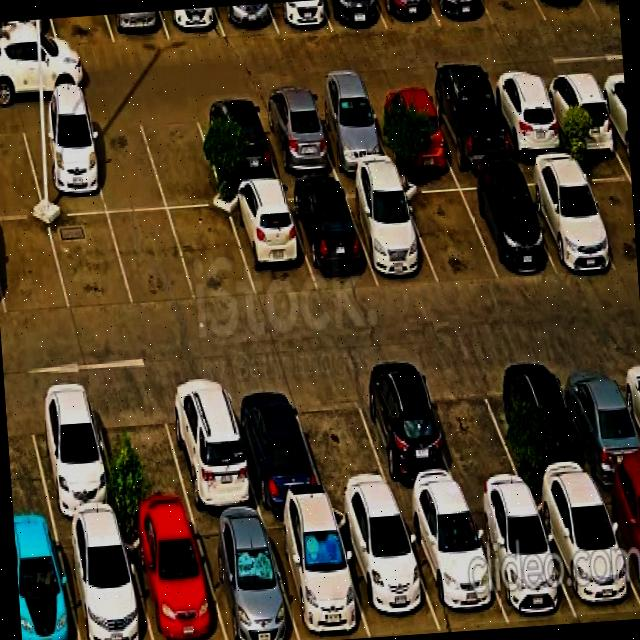empty: (421, 360, 526, 496), (289, 373, 395, 502), (92, 388, 193, 520), (399, 176, 497, 283), (137, 103, 224, 209), (82, 110, 166, 212), (108, 210, 196, 307), (48, 213, 133, 312), (169, 207, 256, 301), (575, 158, 637, 272), (0, 218, 69, 316), (4, 392, 52, 526), (0, 116, 44, 217), (51, 14, 114, 45), (482, 0, 546, 27)
occupied: (531, 484, 640, 623), (352, 366, 463, 502), (465, 493, 576, 624), (399, 498, 508, 630), (262, 508, 370, 640), (332, 505, 440, 636), (159, 376, 260, 515), (191, 515, 299, 640), (224, 378, 325, 509), (498, 355, 596, 490), (25, 388, 122, 523), (122, 518, 226, 640), (56, 522, 152, 640), (554, 353, 640, 483), (517, 160, 618, 270), (456, 171, 555, 277), (225, 186, 316, 298), (284, 181, 377, 290), (341, 179, 438, 283), (19, 113, 107, 215), (424, 81, 513, 168), (194, 99, 280, 187), (14, 526, 78, 640), (254, 95, 338, 180), (308, 92, 393, 174), (486, 75, 568, 158), (367, 87, 453, 166), (540, 71, 621, 151), (596, 479, 640, 604), (160, 7, 225, 40), (267, 0, 332, 33), (106, 10, 169, 43), (321, 0, 386, 31), (216, 3, 277, 36), (377, 0, 440, 30), (0, 18, 58, 49), (431, 0, 493, 26), (537, 0, 598, 21), (590, 0, 620, 16)
